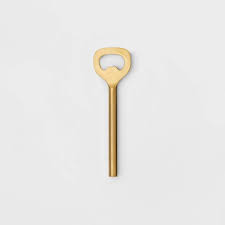bottleopener: (92, 46, 135, 177)
